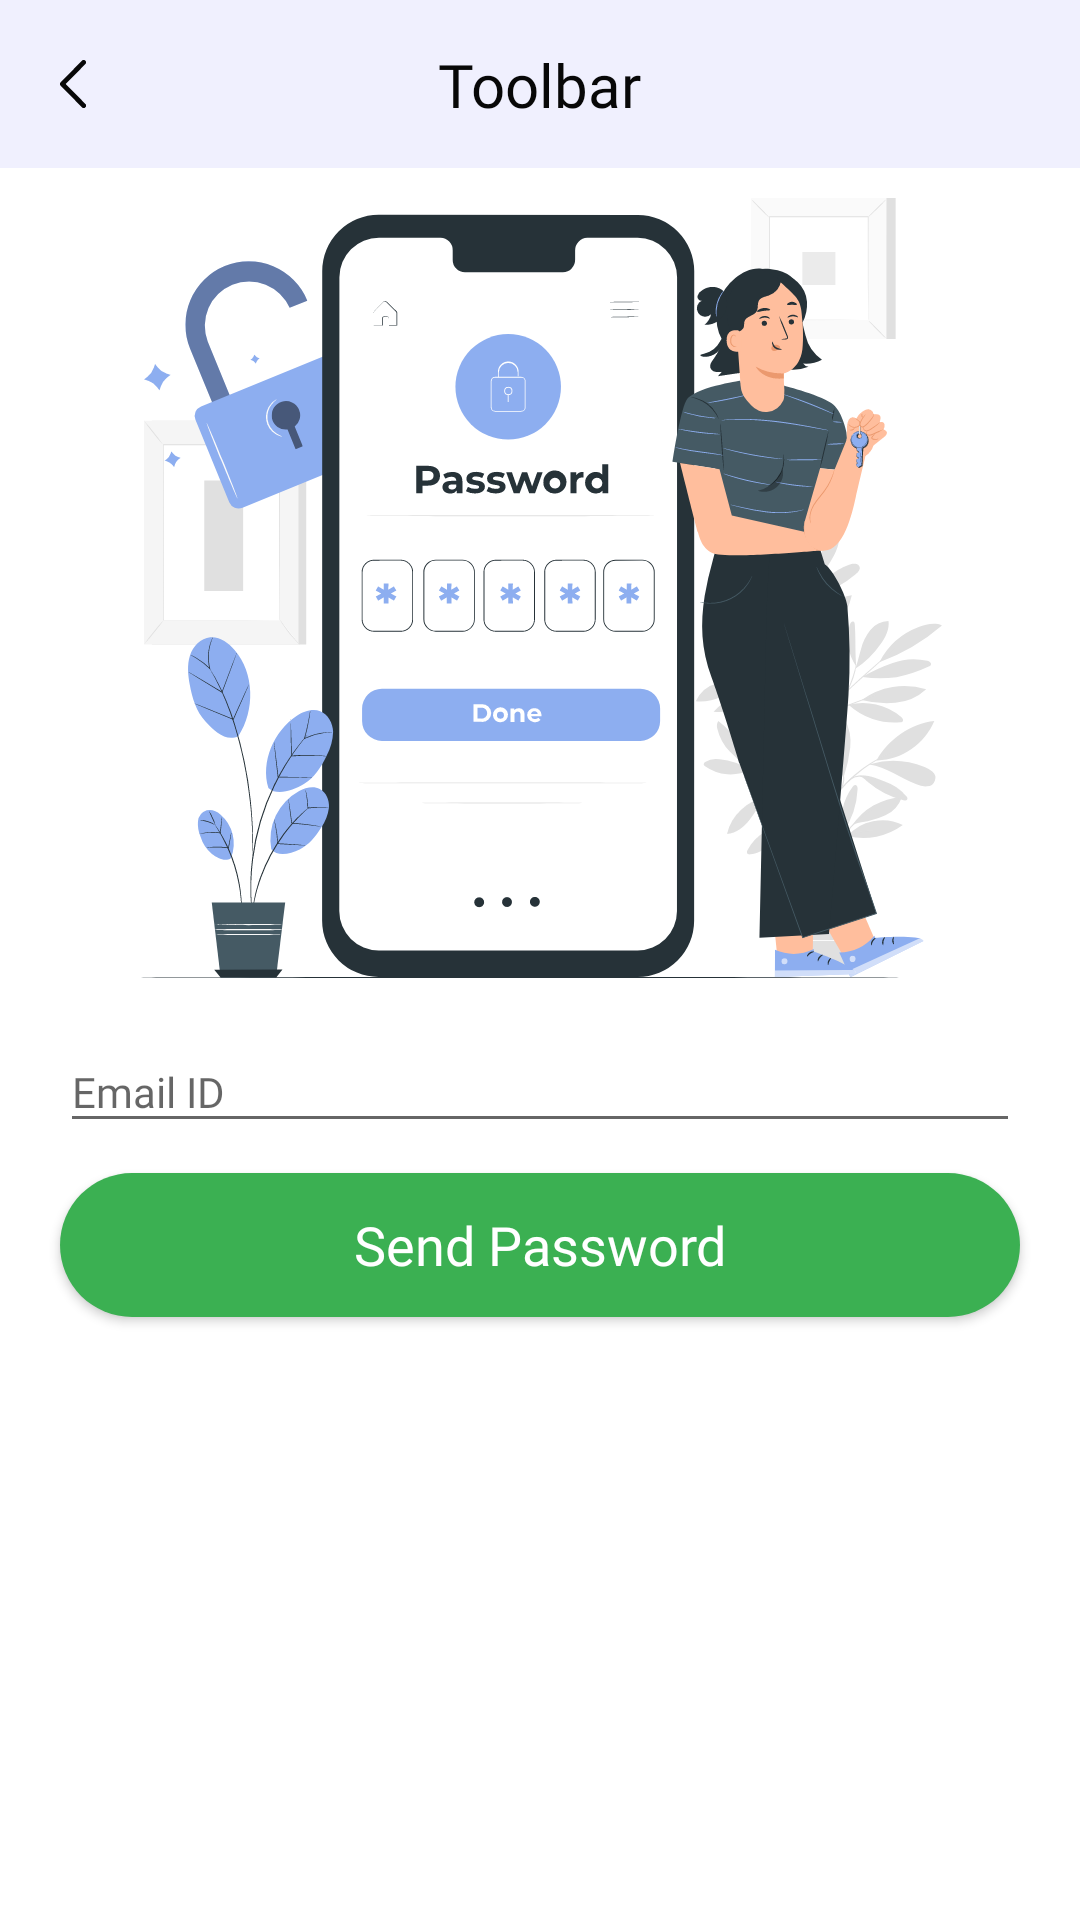

Where to tap for icons on this 1080 × 1920 app screen, as [x,y]:
back: [73,84]
